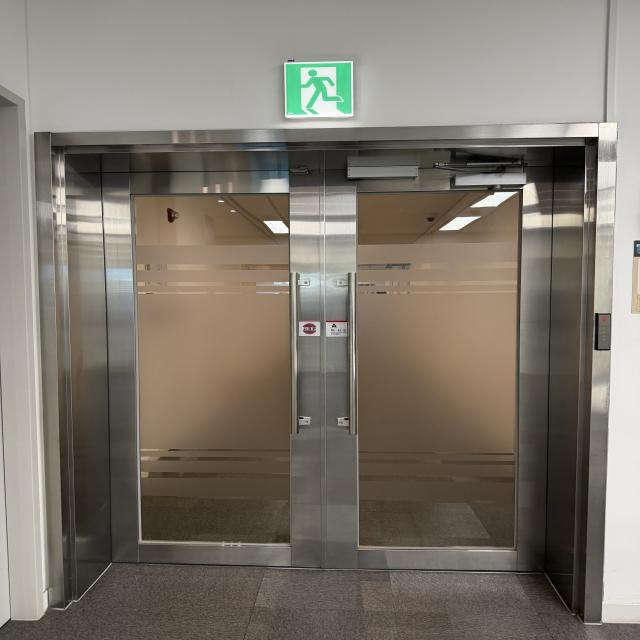rear_door: (58, 147, 586, 582)
